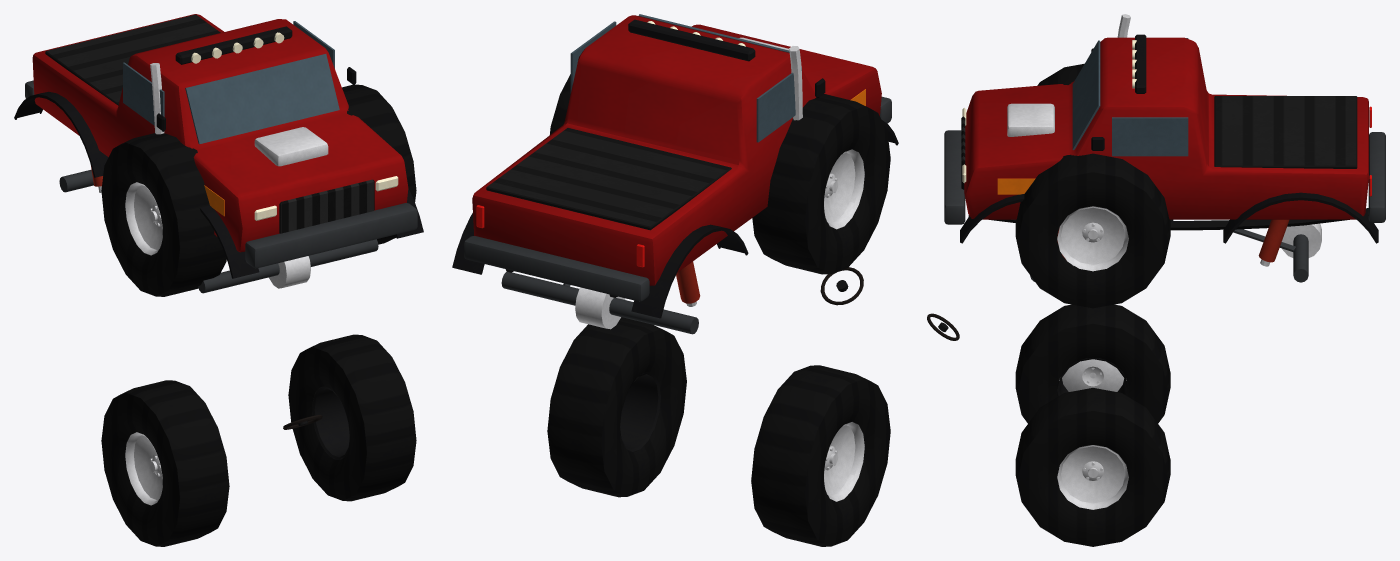
Rendered from DhoomMonsterTruck.fbx.
The picture shows the model from 3 angles, left to right: view 1: azimuth 30°, elevation 25°; view 2: azimuth 150°, elevation 25°; view 3: azimuth 270°, elevation 25°; orthographic projection. The views are drawn at different scales.
Visible parts, largest first — view 1: Body_LOD0, Wheel_FR_Mesh_LOD0, Wheel_FL_Mesh_LOD0, Wheel_RR_Mesh_LOD0, Wheel_RL_Mesh_LOD0; view 2: Body_LOD0, Wheel_FR_Mesh_LOD0, Wheel_FL_Mesh_LOD0, Wheel_RR_Mesh_LOD0, Wheel_RL_Mesh_LOD0, Steering_Pivot_Mesh_LOD0; view 3: Body_LOD0, Wheel_FL_Mesh_LOD0, Wheel_RL_Mesh_LOD0, Wheel_FR_Mesh_LOD0.
Boxes of the visible parts, box(x1,y1,x2,y2) form: Body_LOD0: box(14, 14, 423, 293); Wheel_FR_Mesh_LOD0: box(101, 380, 229, 546); Wheel_FL_Mesh_LOD0: box(288, 334, 416, 501); Wheel_RR_Mesh_LOD0: box(101, 133, 226, 296); Wheel_RL_Mesh_LOD0: box(342, 84, 416, 244); Body_LOD0: box(452, 14, 898, 334); Wheel_FR_Mesh_LOD0: box(751, 365, 890, 546); Wheel_FL_Mesh_LOD0: box(547, 317, 686, 497); Wheel_RR_Mesh_LOD0: box(752, 94, 890, 274); Wheel_RL_Mesh_LOD0: box(550, 74, 570, 134); Steering_Pivot_Mesh_LOD0: box(820, 267, 863, 305); Body_LOD0: box(944, 14, 1385, 282); Wheel_FL_Mesh_LOD0: box(1015, 388, 1170, 546); Wheel_RL_Mesh_LOD0: box(1015, 153, 1170, 308); Wheel_FR_Mesh_LOD0: box(1015, 304, 1170, 423).
Size of what is drawn, in the model's own units: 2.78 by 5.07 by 4.81.
